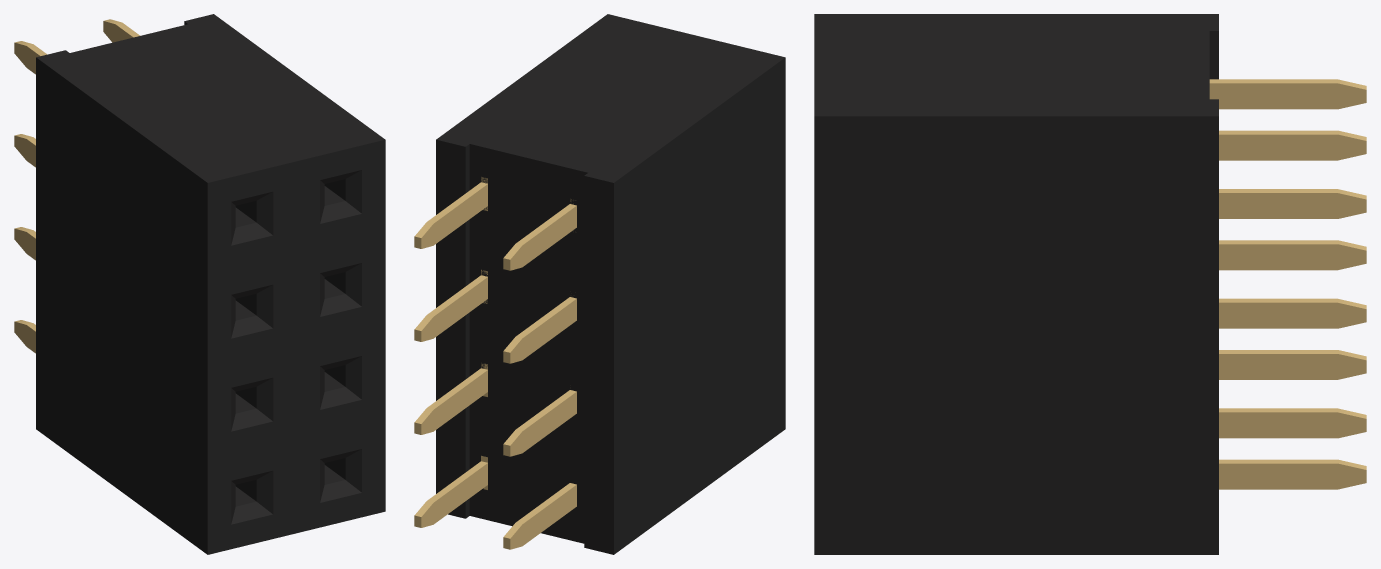
File: socket-2x04.glb
3 renders of one model, left to right at view 1: azimuth 30°, elevation 25°; view 2: azimuth 150°, elevation 25°; view 3: azimuth 270°, elevation 25°, orthographic. The views are drawn at different scales.
Visible parts, largest first — view 1: IC-BODY-EPOXY-04, PIN-02; view 2: IC-BODY-EPOXY-04, PIN-02 (×4); view 3: IC-BODY-EPOXY-04, PIN-02 (×5).
Part boxes in pixels (x1,y1,x2,y2): IC-BODY-EPOXY-04: [36, 14, 385, 554]; PIN-02: [14, 19, 140, 331]; IC-BODY-EPOXY-04: [436, 14, 785, 554]; PIN-02 (×4): [414, 177, 576, 549]; IC-BODY-EPOXY-04: [814, 14, 1218, 554]; PIN-02 (×5): [1209, 79, 1366, 489].
Bounding box in the file's own units: 5.08 × 10.16 × 11.6.
